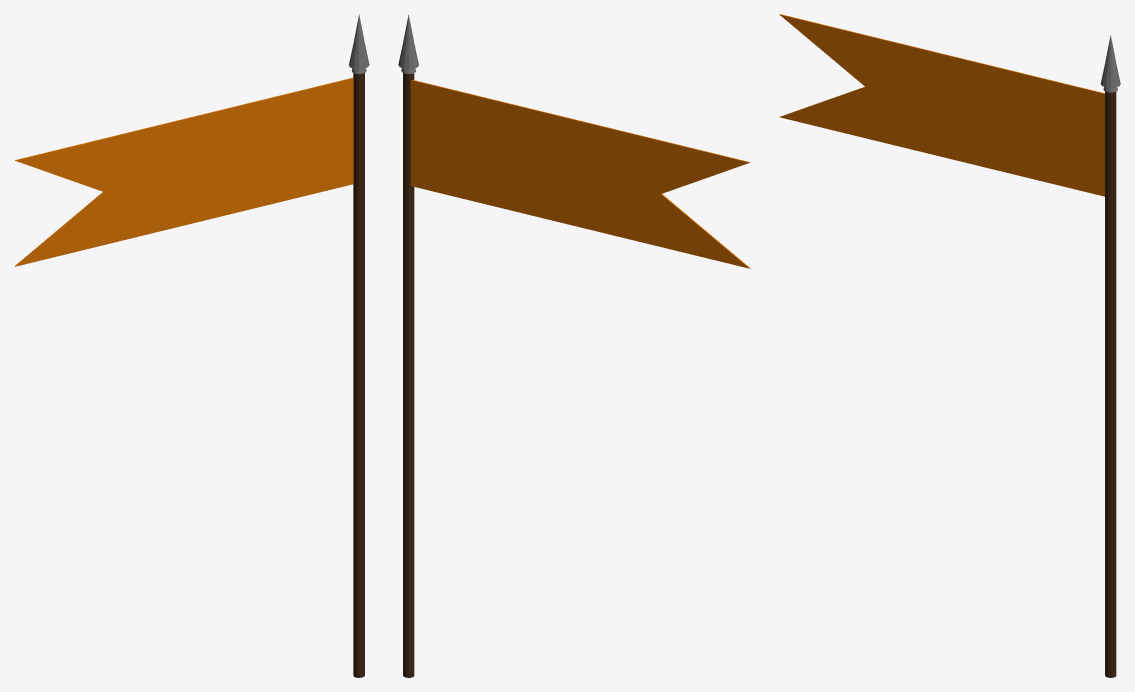
File: bandeira laranja.fbx
3 views of the same model, side by side, from view 1: azimuth 30°, elevation 25°; view 2: azimuth 150°, elevation 25°; view 3: azimuth 330°, elevation 25° (orthographic). The views are drawn at different scales.
Parts seen in each view (by area): view 1: bandeira_laranja; view 2: bandeira_laranja; view 3: bandeira_laranja.
Boxes of the visible parts, <box> form: bandeira_laranja: <box>14,14,369,677</box>; bandeira_laranja: <box>398,15,750,677</box>; bandeira_laranja: <box>779,14,1120,677</box>.
Size of the model in its own units: 224 by 402 by 11.01.
